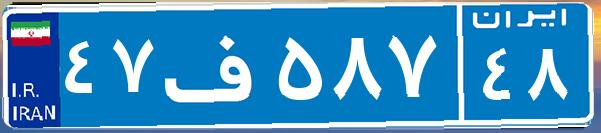4: (57, 26, 110, 107), (475, 38, 525, 113)
5: (273, 28, 330, 110)
7: (385, 28, 445, 110), (110, 28, 158, 105)
8: (330, 28, 385, 110), (525, 38, 570, 115)
ف: (158, 15, 273, 115)
